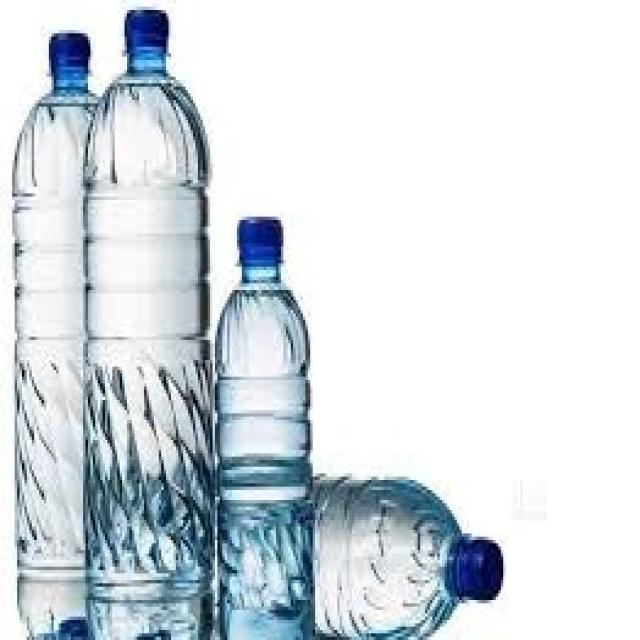bottle: (94, 0, 232, 640), (212, 173, 354, 640), (12, 1, 109, 640), (323, 453, 537, 640)
